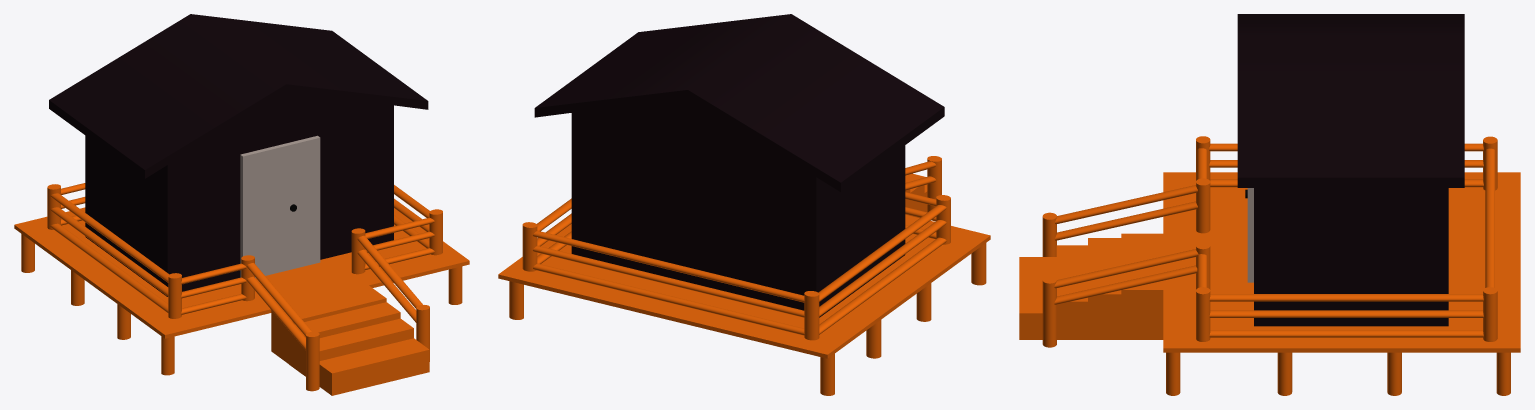
The model's file is Level1_House.fbx.
3 renders of one model, left to right at view 1: azimuth 30°, elevation 25°; view 2: azimuth 150°, elevation 25°; view 3: azimuth 270°, elevation 25°, orthographic. The views are drawn at different scales.
Visible parts, largest first — view 1: pCylinder24; view 2: pCylinder24; view 3: pCylinder24.
Part boxes in pixels (left/top/right/bottom): pCylinder24: left=14, top=14, right=469, bottom=395; pCylinder24: left=498, top=14, right=990, bottom=395; pCylinder24: left=1019, top=14, right=1520, bottom=395.
Bounding box in the file's own units: 148 × 108 × 178.
